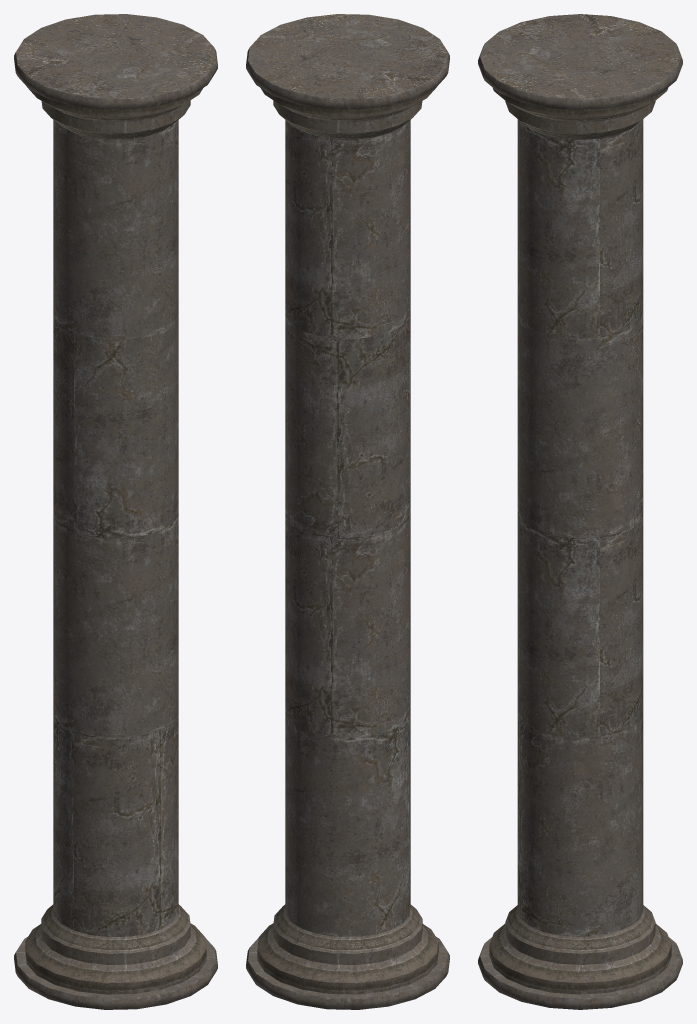
Rendered from Column.fbx.
3 views of the same model, side by side, from view 1: azimuth 30°, elevation 25°; view 2: azimuth 150°, elevation 25°; view 3: azimuth 270°, elevation 25° (orthographic).
Parts seen in each view (by area): view 1: Trim_Column_1x8; view 2: Trim_Column_1x8; view 3: Trim_Column_1x8.
Part boxes in pixels (x1,y1,x2,y2): Trim_Column_1x8: [14, 14, 217, 1009]; Trim_Column_1x8: [246, 14, 449, 1009]; Trim_Column_1x8: [478, 14, 682, 1009].
Size of the model in its own units: 163 by 800 by 163.
